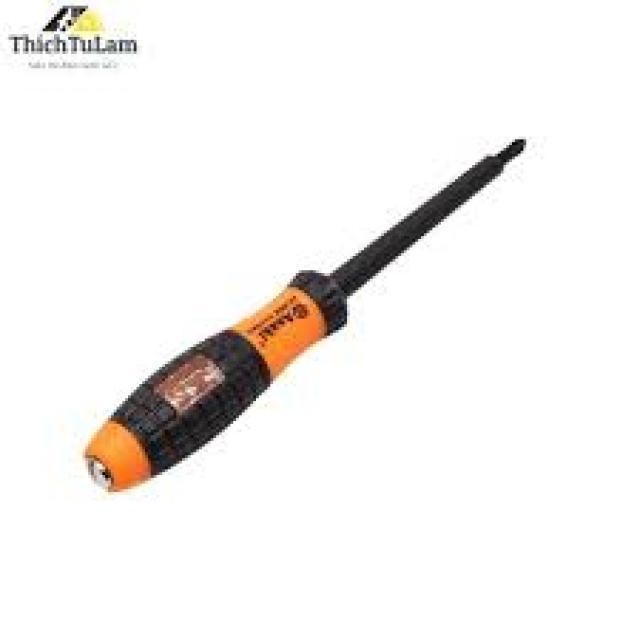screwdriver: (77, 131, 530, 498)
